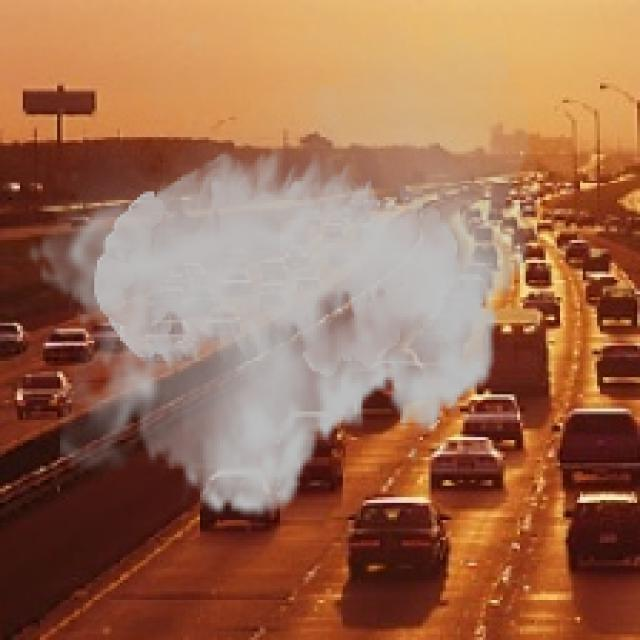Smoke: (26, 0, 540, 537)
